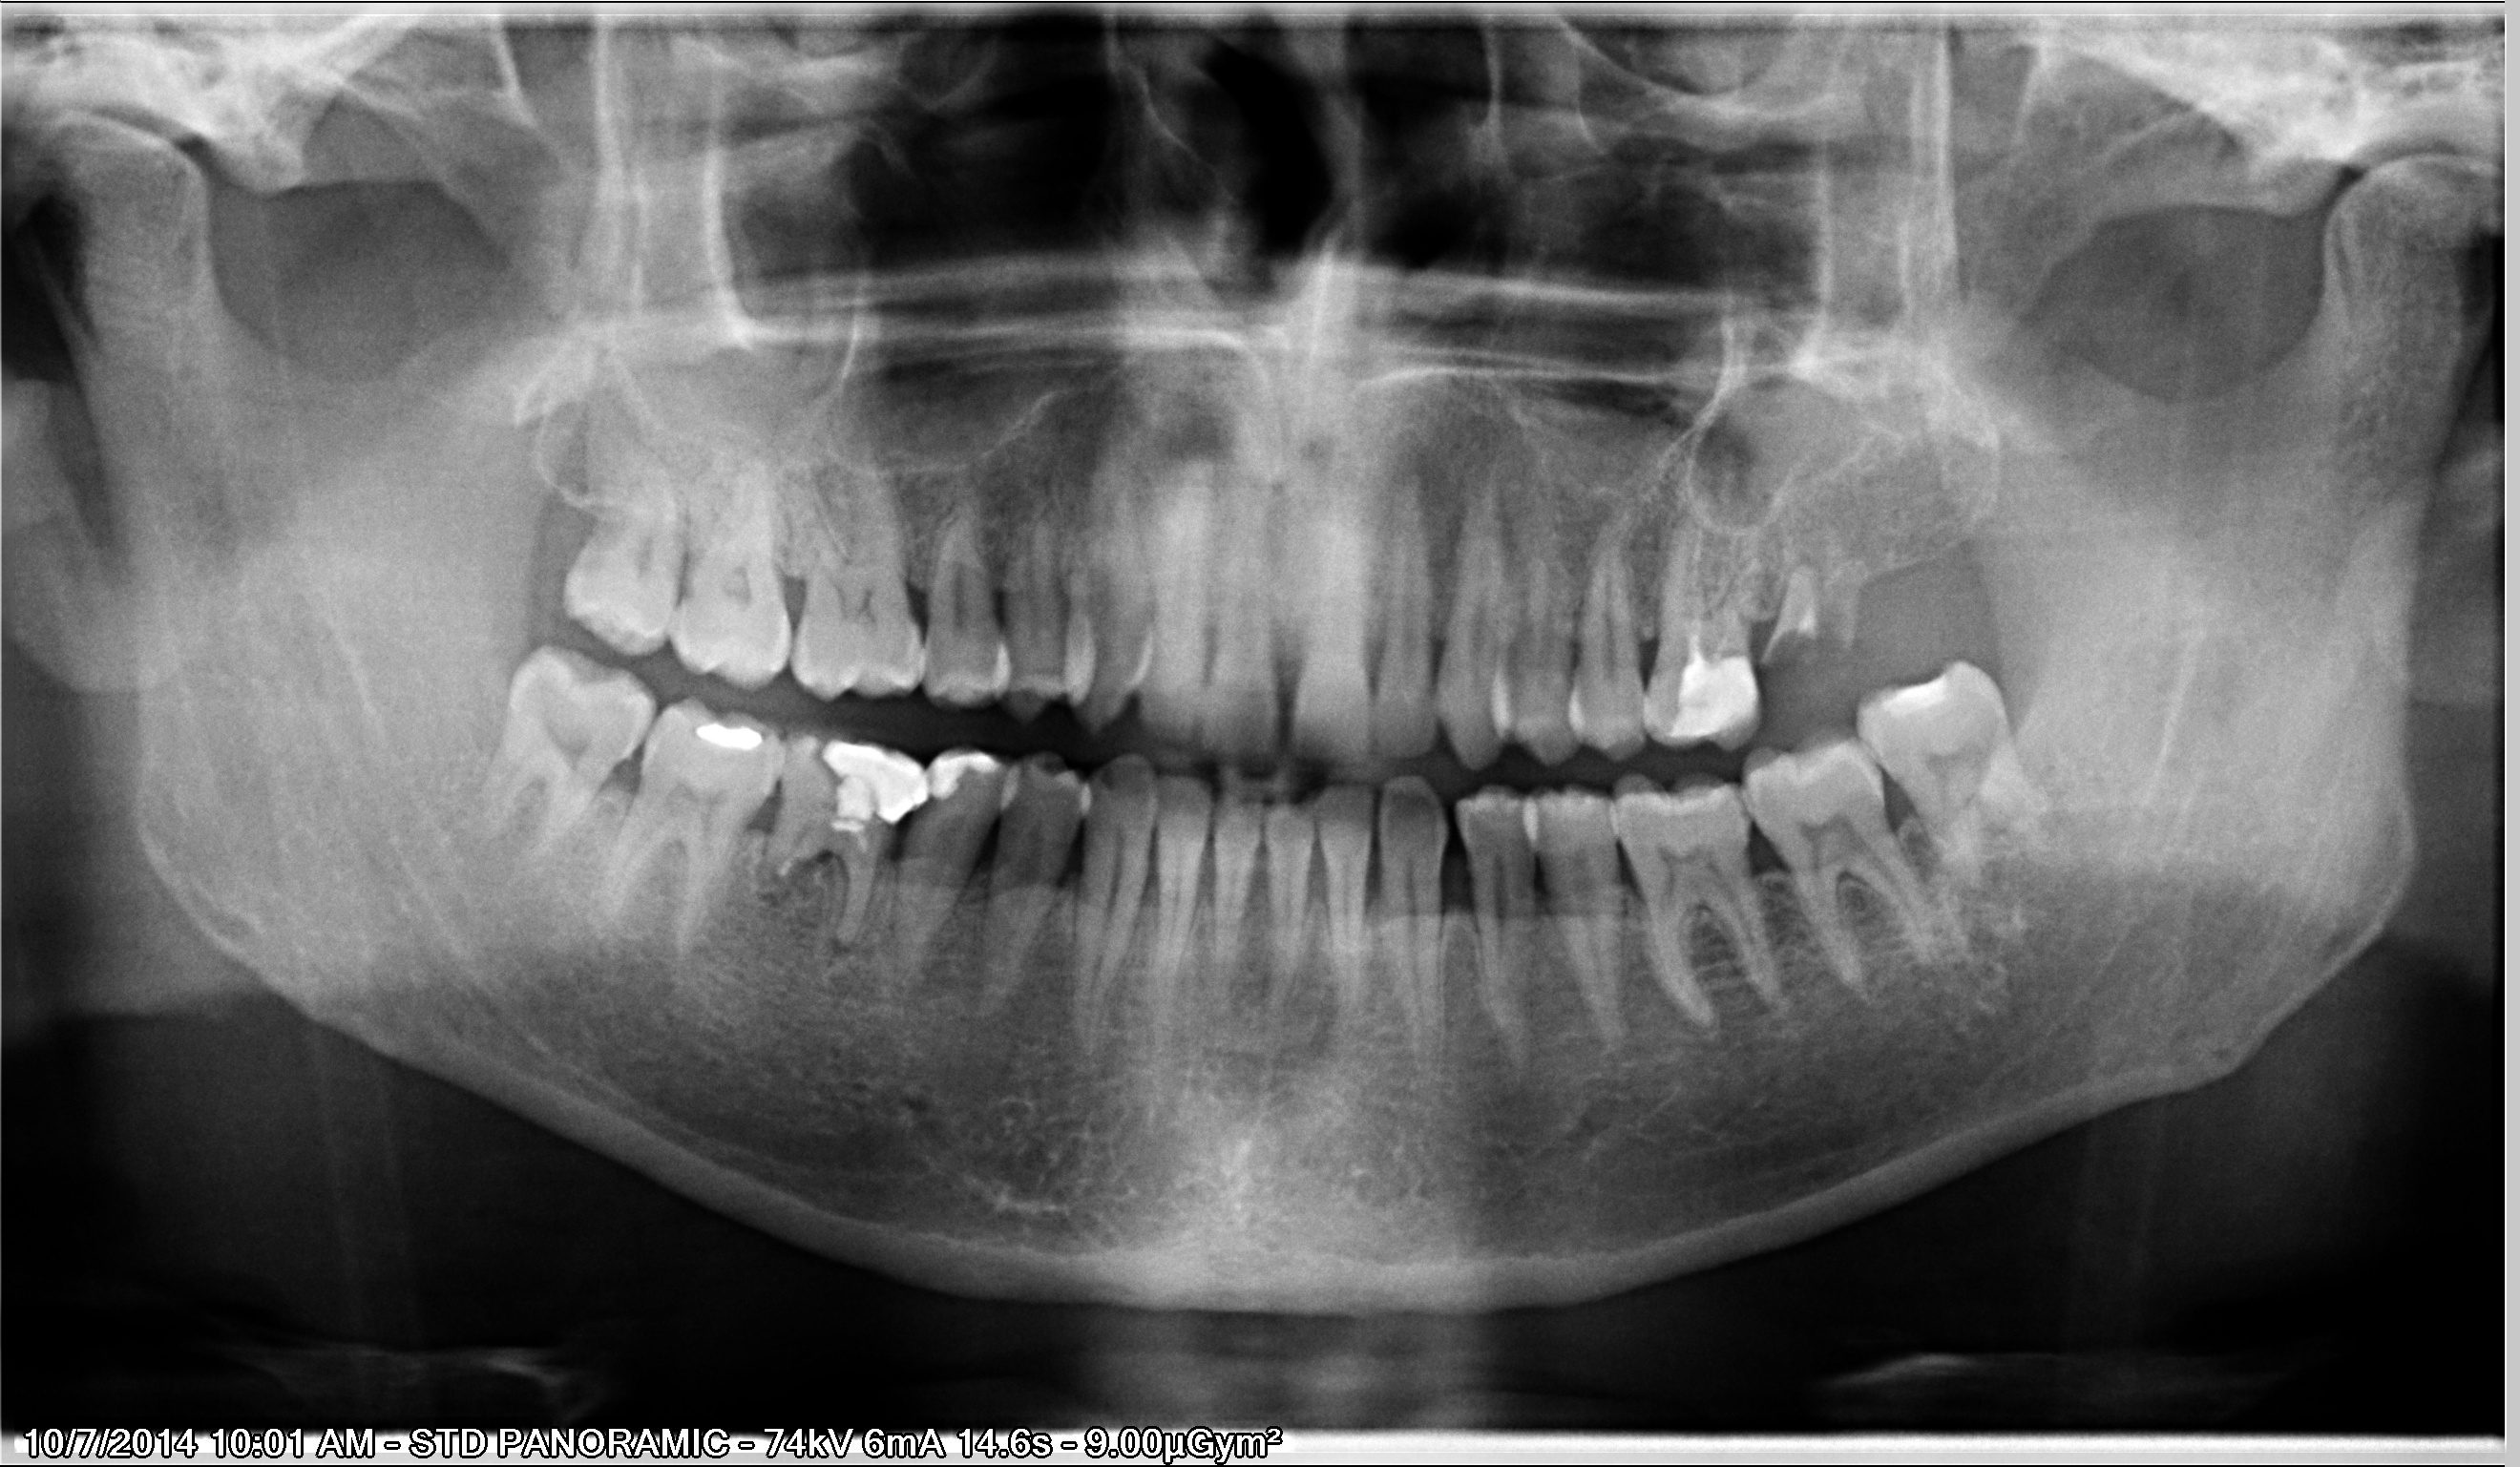CAR: (910, 795, 940, 821)
FUR: (803, 849, 847, 880)
OBT: (1670, 655, 1757, 737)
ROT: (1760, 566, 1818, 665)
